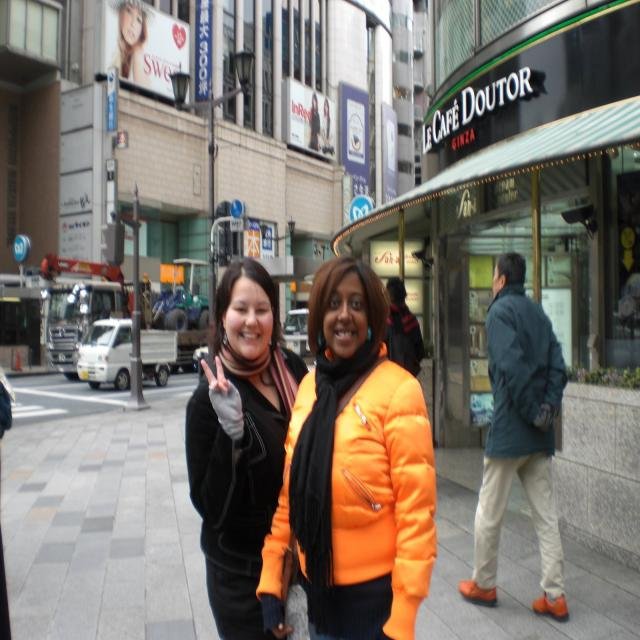body: (250, 251, 442, 640), (182, 254, 312, 640), (456, 246, 578, 623), (0, 348, 24, 640), (107, 3, 166, 86), (383, 275, 427, 362), (299, 85, 334, 160)
